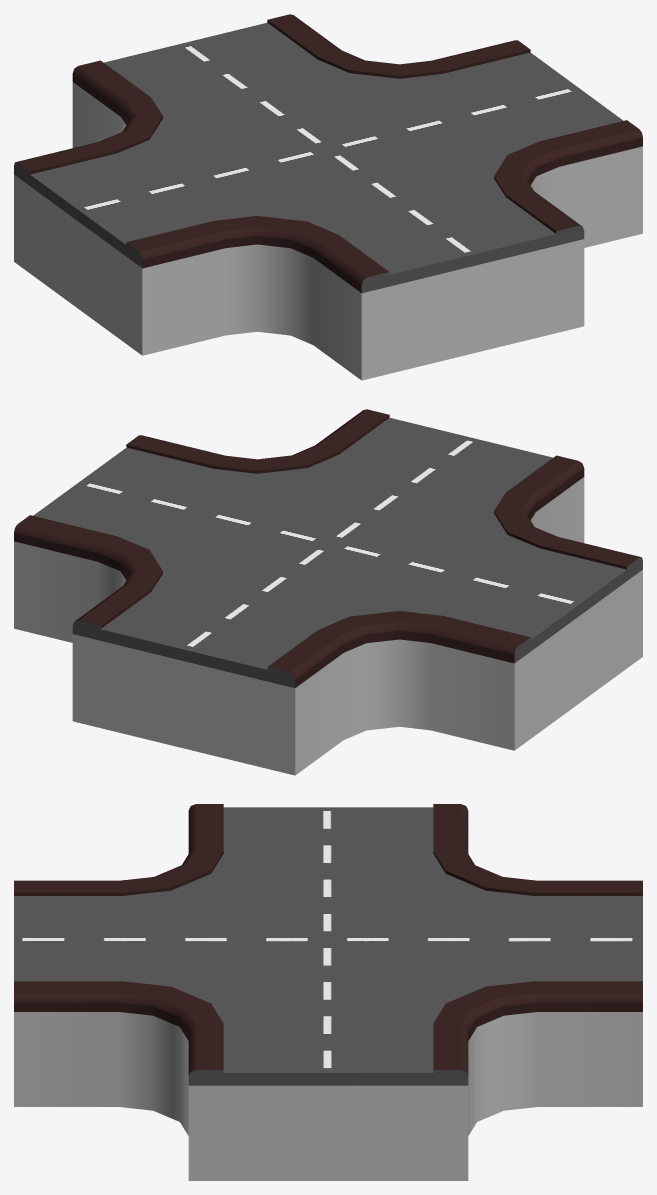
Rendered from Crossroads X border.fbx.
The picture shows the model from 3 angles, top to bottom: view 1: azimuth 30°, elevation 25°; view 2: azimuth 150°, elevation 25°; view 3: azimuth 270°, elevation 25°; orthographic projection. The views are drawn at different scales.
Visible parts, largest first — view 1: Crossroads_2, Basis; view 2: Crossroads_2, Basis; view 3: Crossroads_2, Basis.
Boxes of the visible parts, box(x1,y1,x2,y2) form: Crossroads_2: box(14, 14, 642, 293); Basis: box(14, 82, 642, 380); Crossroads_2: box(14, 409, 642, 688); Basis: box(14, 477, 642, 775); Crossroads_2: box(14, 804, 642, 1085); Basis: box(14, 1012, 642, 1180).
Size of the model in its own units: 1800 by 350 by 1800.
